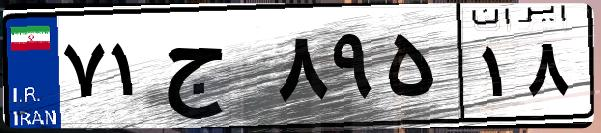1: (475, 38, 525, 113), (110, 28, 158, 98)
5: (385, 28, 445, 110)
7: (57, 26, 110, 100)
8: (270, 28, 330, 110), (525, 38, 570, 115)
9: (330, 28, 385, 110)
ج: (158, 20, 270, 120)
